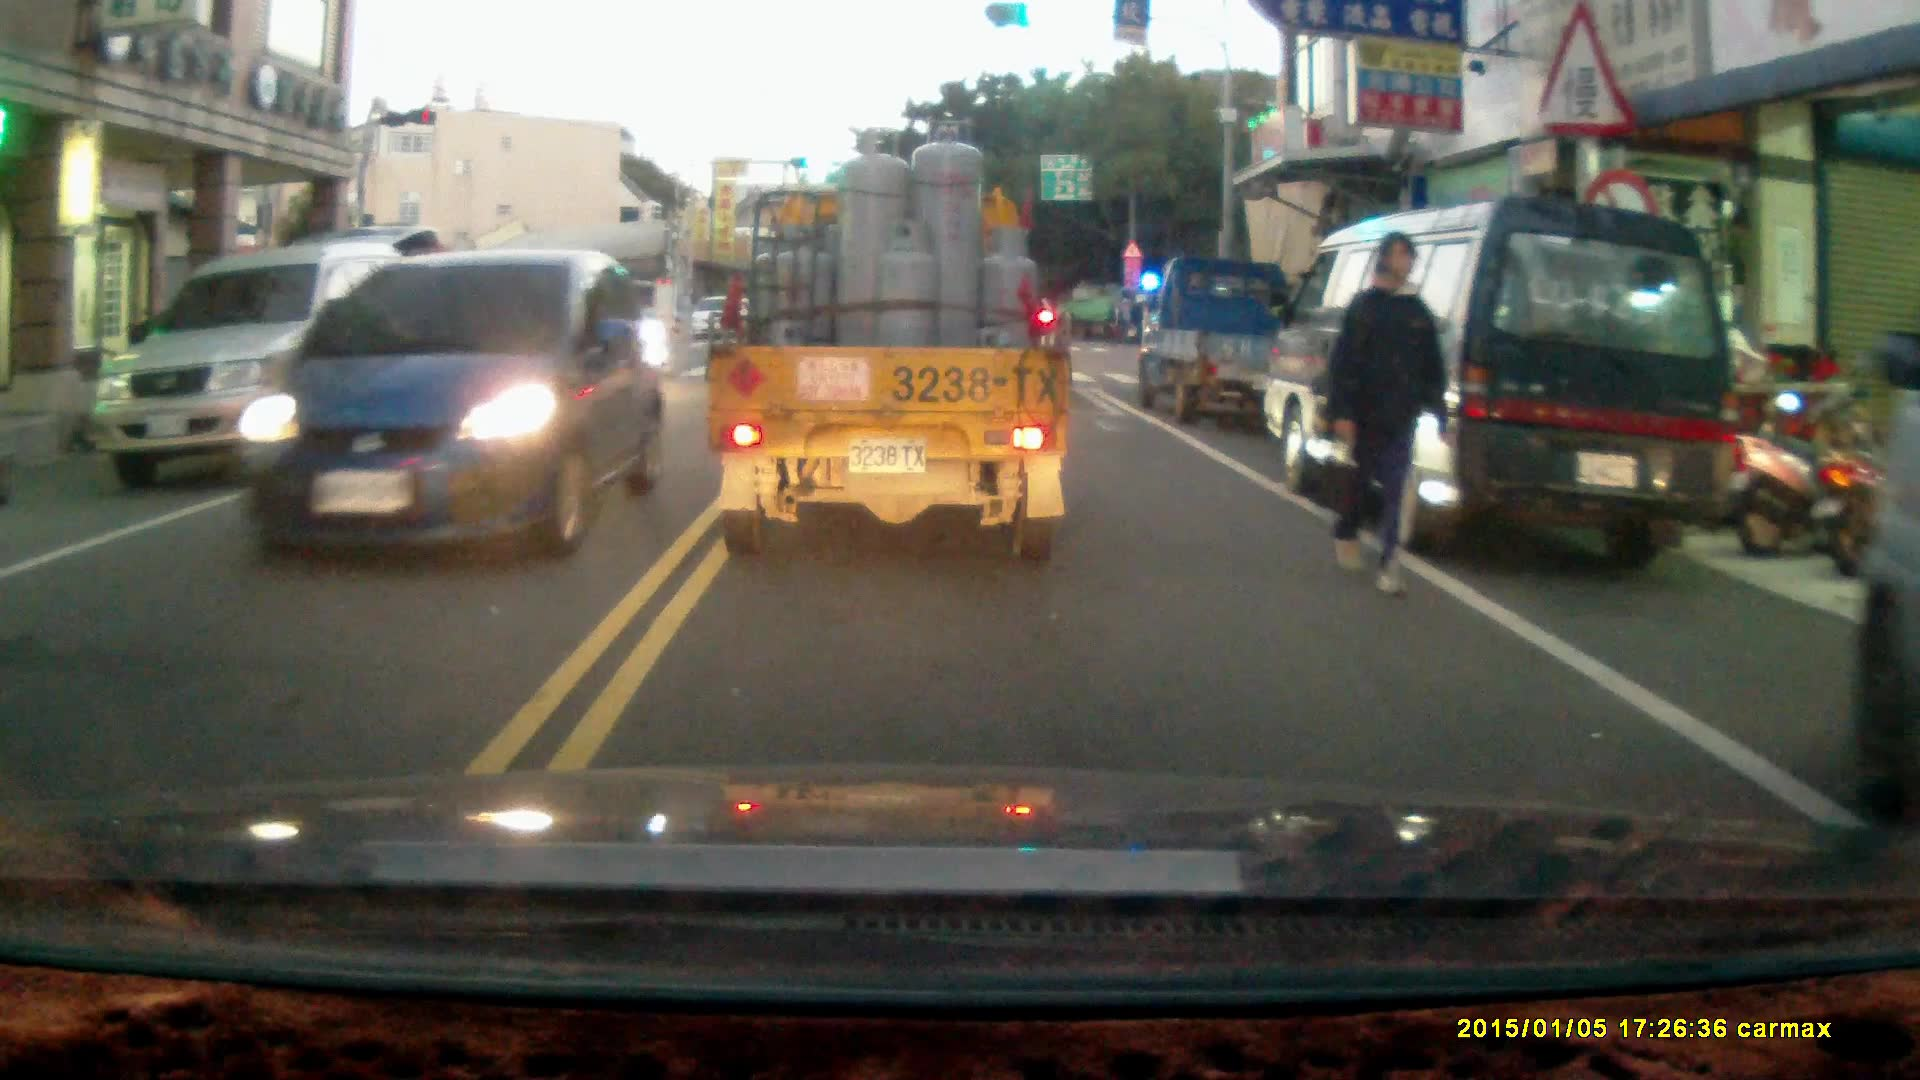pedestrian: (1324, 230, 1450, 598)
vehicle: (1266, 194, 1735, 574), (705, 120, 1071, 555), (223, 245, 668, 563), (88, 241, 438, 494), (317, 294, 545, 426), (1125, 246, 1290, 416)
